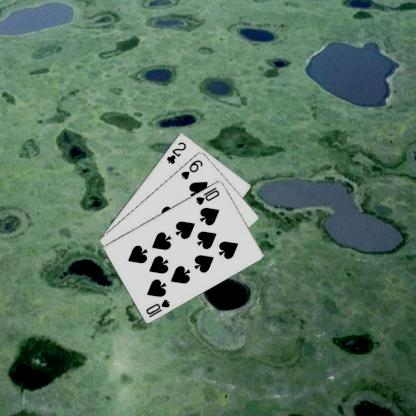10S: (144, 296, 171, 318), (193, 185, 221, 206)
2C: (164, 139, 187, 165)
6S: (178, 157, 204, 180)
